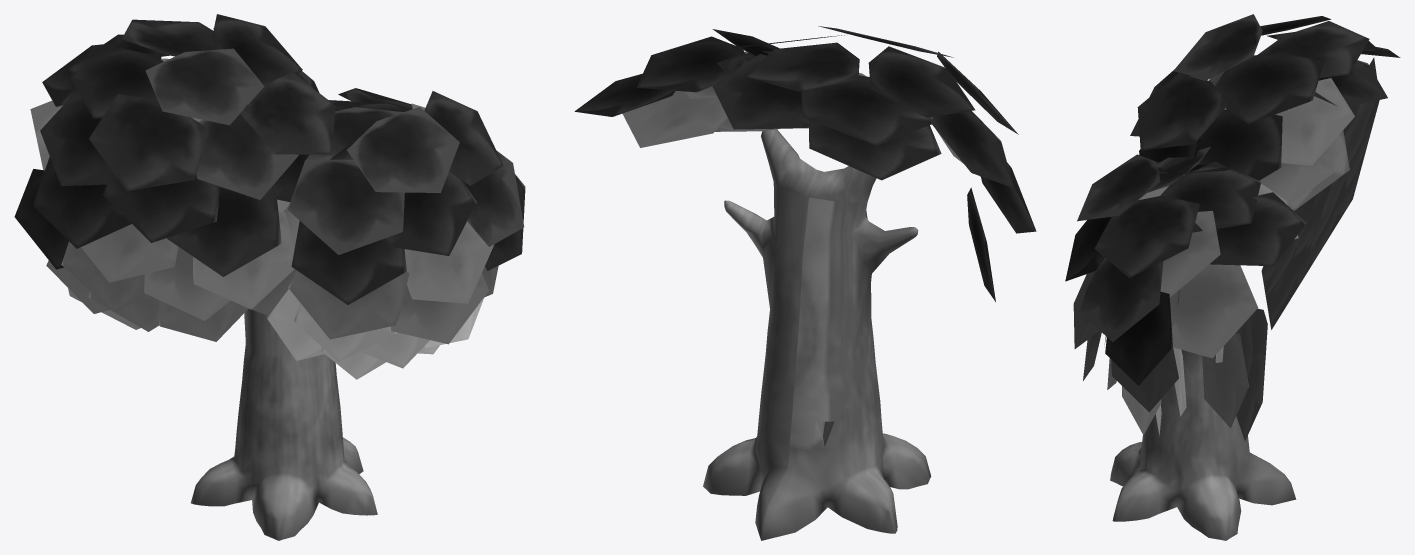
File: PltTreeOak2Node.glb
3 views of the same model, side by side, from view 1: azimuth 30°, elevation 25°; view 2: azimuth 150°, elevation 25°; view 3: azimuth 270°, elevation 25° (orthographic). The views are drawn at different scales.
Parts seen in each view (by area): view 1: L01_019__mTreeOakLeaf, TrunkBottom__mPltTreeOakTrunk, LB018__mTreeOakLeafBack; view 2: TrunkBottom__mPltTreeOakTrunk, L01_019__mTreeOakLeaf; view 3: L01_019__mTreeOakLeaf, TrunkBottom__mPltTreeOakTrunk, LB018__mTreeOakLeafBack.
Part boxes in pixels (left/top/right/bottom): L01_019__mTreeOakLeaf: left=14, top=14, right=525, bottom=379; TrunkBottom__mPltTreeOakTrunk: left=191, top=309, right=377, bottom=540; LB018__mTreeOakLeafBack: left=30, top=100, right=140, bottom=329; TrunkBottom__mPltTreeOakTrunk: left=703, top=129, right=931, bottom=540; L01_019__mTreeOakLeaf: left=574, top=26, right=1036, bottom=301; L01_019__mTreeOakLeaf: left=1065, top=14, right=1400, bottom=436; TrunkBottom__mPltTreeOakTrunk: left=1110, top=350, right=1296, bottom=540; LB018__mTreeOakLeafBack: left=1177, top=57, right=1379, bottom=440.
Size of the model in its own units: 16.35 by 15.61 by 10.92.
Materials: 3 (3 with a texture image).
